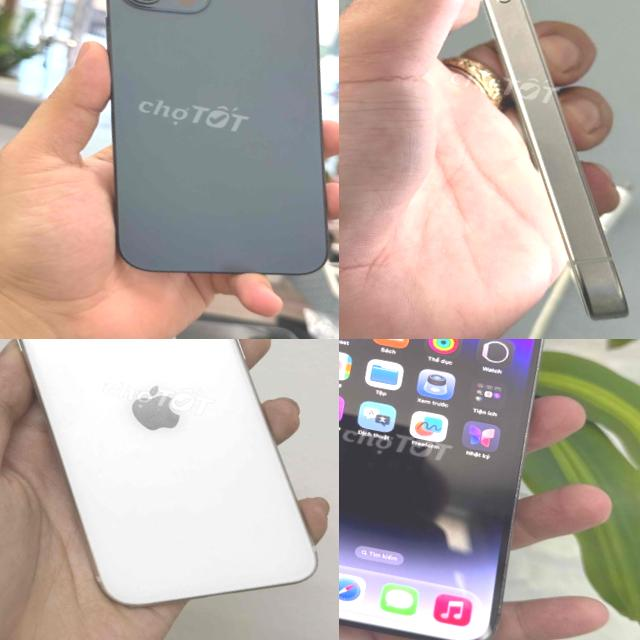gen_12_13: (33, 0, 339, 308)
gen_14: (339, 339, 583, 640)
gen_15: (339, 0, 640, 339)
gen_7_8: (0, 339, 339, 640)
scratch: (119, 378, 190, 436)
